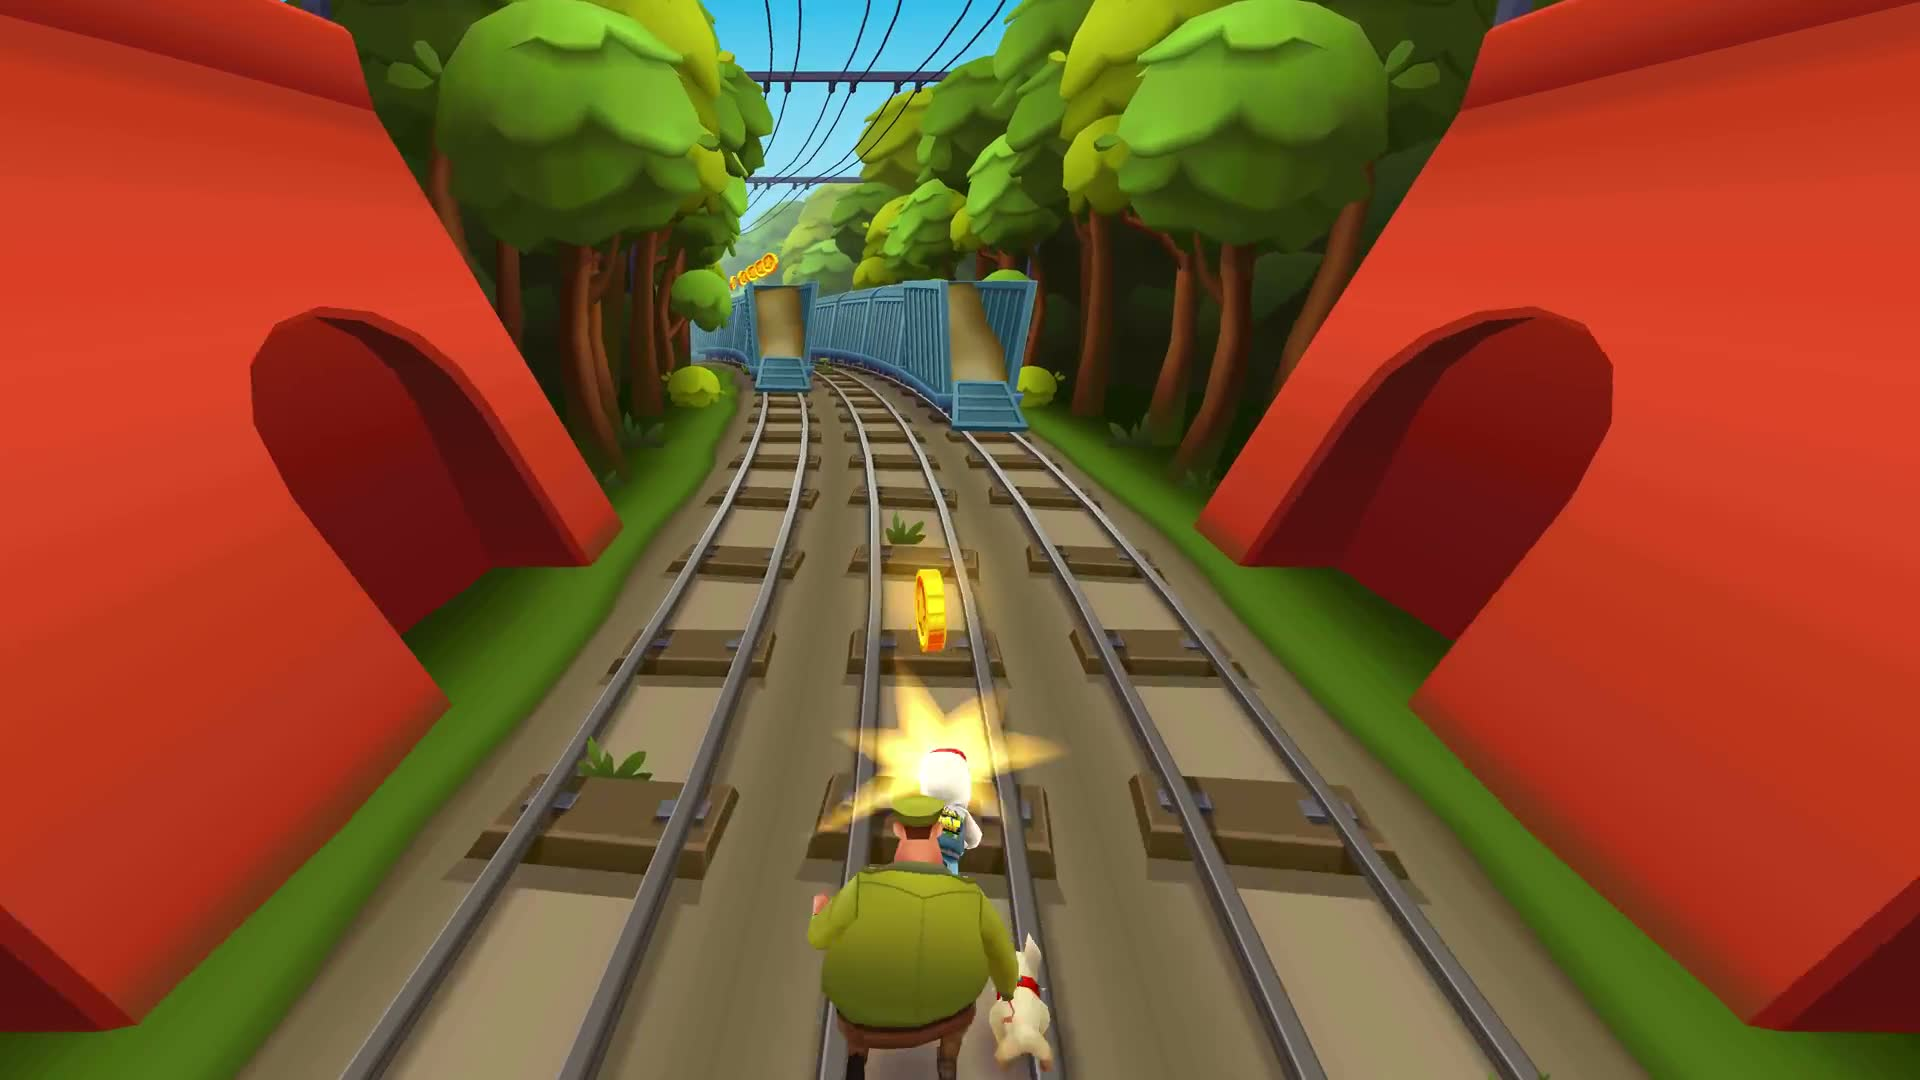coins: (888, 409, 928, 473)
player: (884, 667, 1004, 837)
